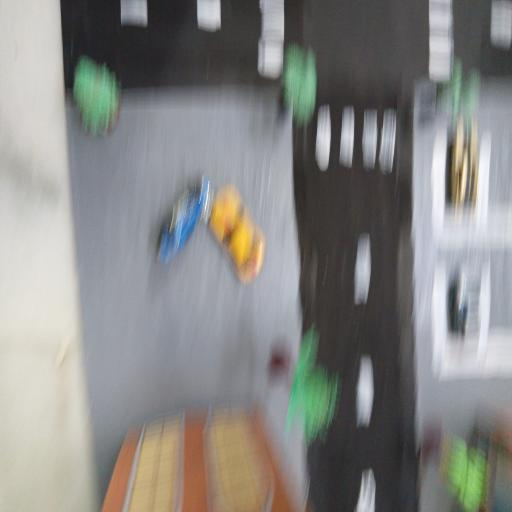car crash: (156, 172, 268, 286), (208, 192, 270, 282), (155, 169, 213, 265)
